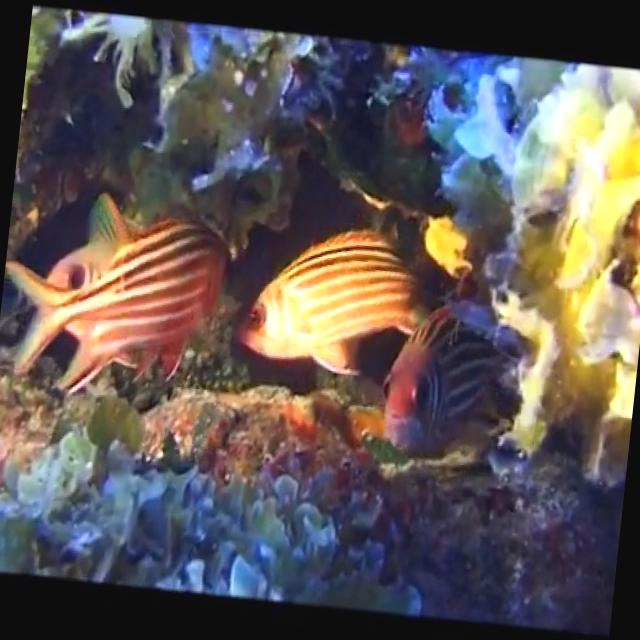Asker Baligi: (0, 179, 237, 413), (235, 206, 444, 388)
